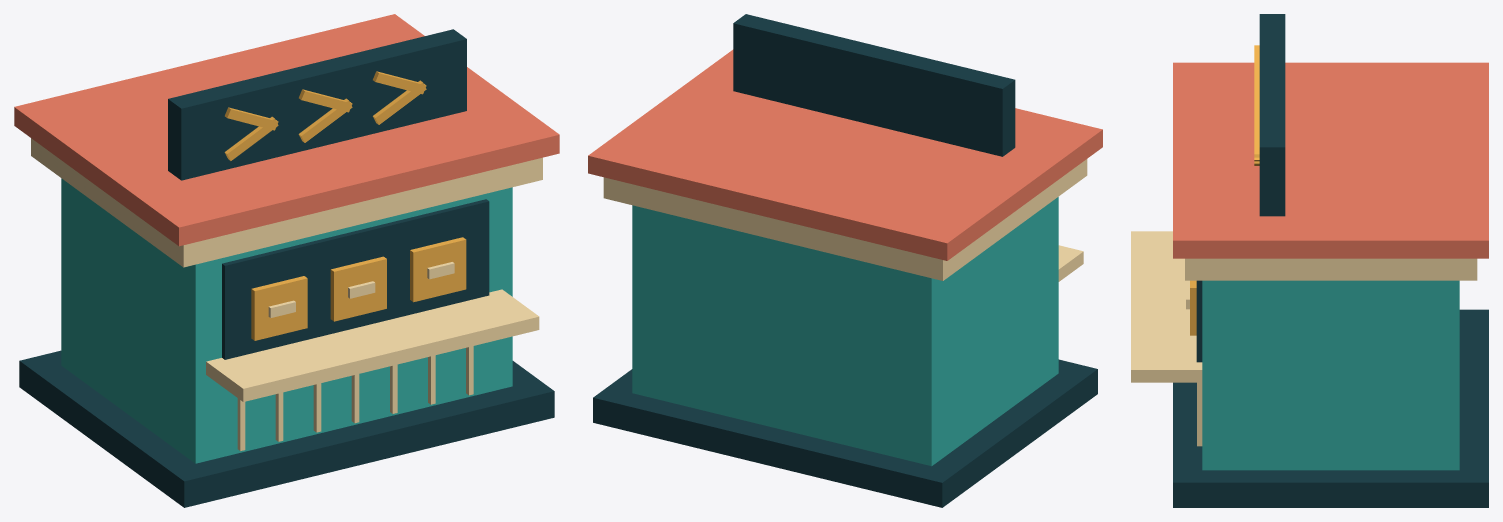
Rendered from dispatch-booth.glb.
3 views of the same model, side by side, from view 1: azimuth 30°, elevation 25°; view 2: azimuth 150°, elevation 25°; view 3: azimuth 270°, elevation 25° (orthographic). The views are drawn at different scales.
Size of the model in its own units: 3.6 by 3.21 by 3.06.
